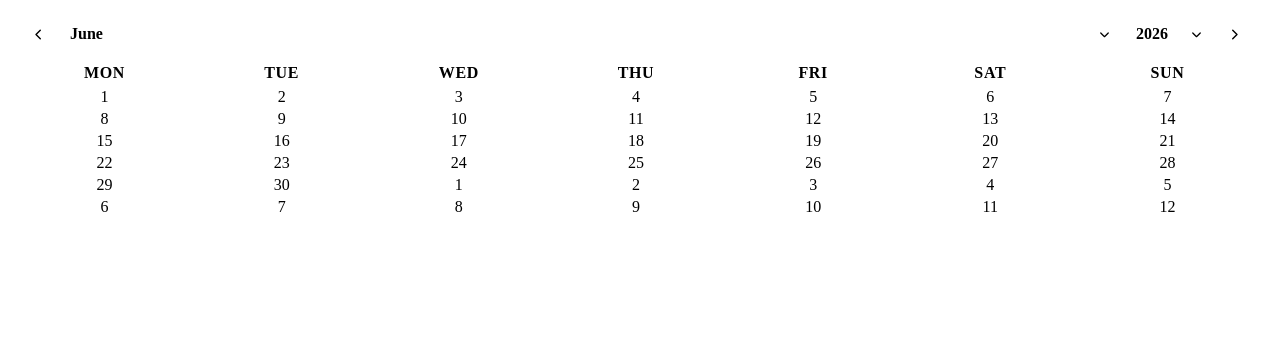
M4.1 TKCalendar › opens month and year selectors from the standalone calendar header
Click the button with aria-label "Month" at (86, 34), box top-left (60, 17), bottom-right (1120, 51)
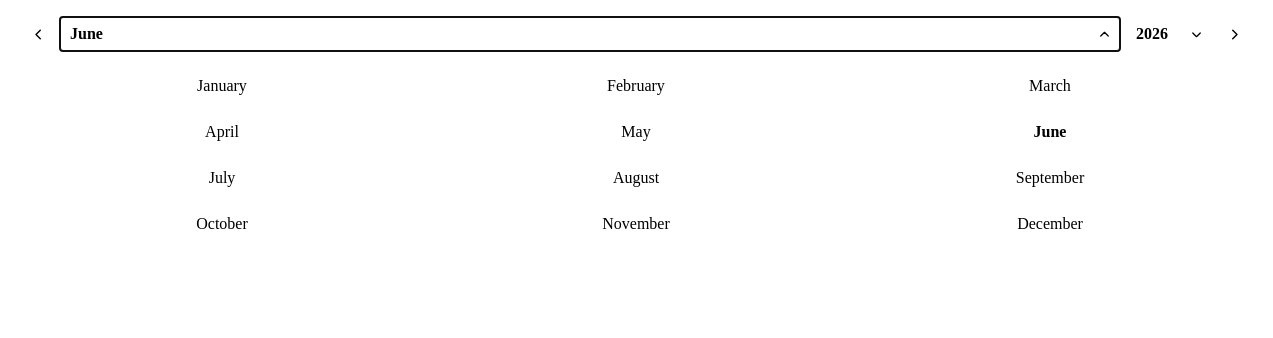
Click the option "January" at (222, 86), box top-left (18, 66), bottom-right (426, 106)
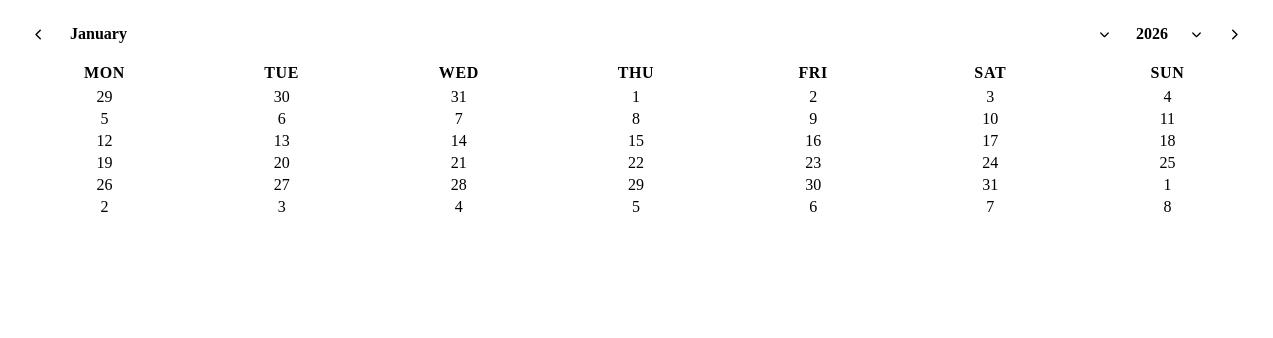
Expected: the table named "January 2026" is shown, top-left (16, 64), bottom-right (1256, 218)
Click the button named "Year" at (1169, 34), box top-left (1126, 17), bottom-right (1212, 51)
(page scrolled)
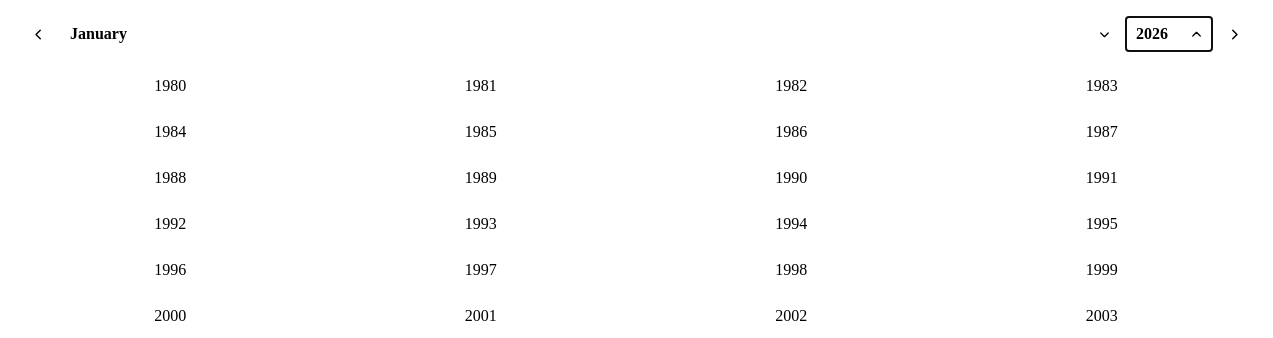
Click the option "1990" at (791, 178), box top-left (639, 158), bottom-right (944, 198)
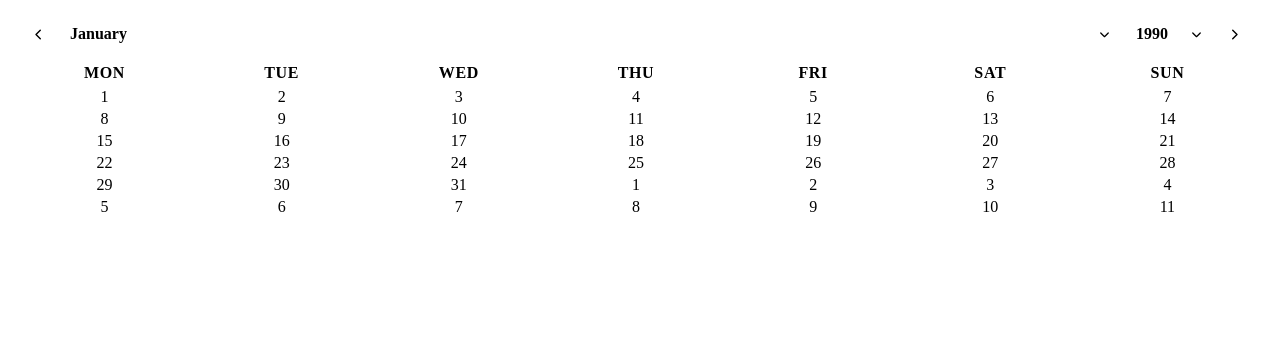
Expected: the table named "January 1990" is shown, top-left (16, 64), bottom-right (1256, 218)
